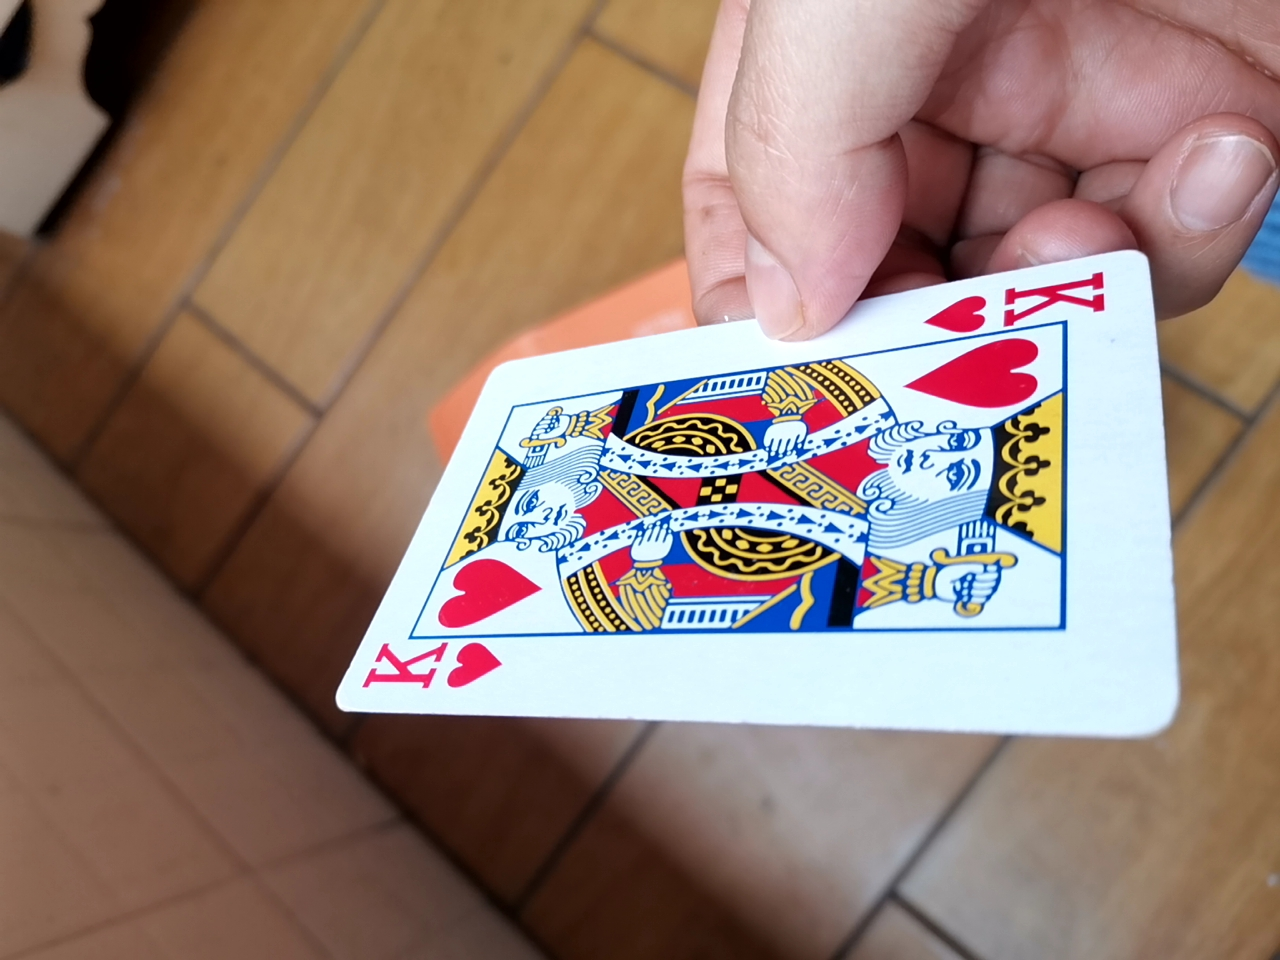hx k: (317, 262, 1172, 732)
